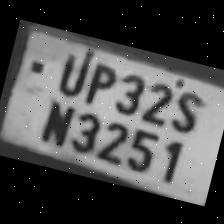1: (152, 129, 192, 183)
2: (136, 73, 176, 126), (92, 112, 132, 165)
3: (109, 63, 149, 116), (63, 102, 103, 155)
5: (119, 120, 164, 174)
N: (33, 91, 78, 146)
P: (80, 54, 122, 106)
S: (164, 82, 208, 136)
U: (49, 44, 92, 98)
